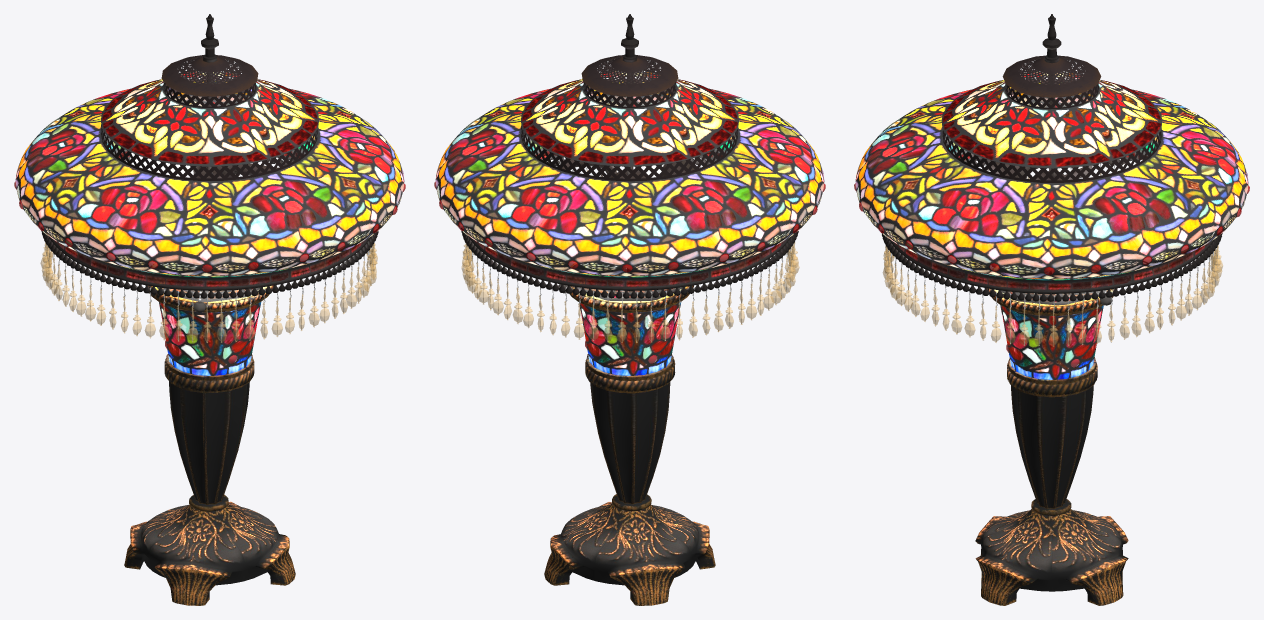
The model's file is light-stained-glass.glb.
3 renders of one model, left to right at view 1: azimuth 30°, elevation 25°; view 2: azimuth 150°, elevation 25°; view 3: azimuth 270°, elevation 25°, orthographic.
Visible parts, largest first — view 1: stainedglass, base, grill, amberbeads, hardware, steel, redgems; view 2: stainedglass, base, grill, amberbeads, hardware, steel, redgems; view 3: stainedglass, base, grill, amberbeads, hardware, steel, redgems.
Boxes of the visible parts, box(x1,y1,x2,y2) form: stainedglass: box(15, 71, 404, 375); base: box(124, 263, 295, 605); grill: box(101, 55, 317, 180); amberbeads: box(40, 242, 377, 343); hardware: box(41, 14, 378, 312); steel: box(45, 162, 373, 342); redgems: box(14, 101, 405, 363); stainedglass: box(435, 71, 824, 375); base: box(544, 263, 715, 605); grill: box(521, 55, 737, 181); amberbeads: box(461, 170, 799, 342); hardware: box(461, 14, 798, 298); steel: box(466, 160, 794, 342); redgems: box(434, 104, 825, 363); stainedglass: box(855, 71, 1248, 379); base: box(975, 266, 1128, 605); grill: box(942, 55, 1161, 182); amberbeads: box(882, 170, 1222, 346); hardware: box(882, 14, 1222, 305); steel: box(886, 163, 1217, 345); redgems: box(854, 105, 1249, 367).
Bounding box in the file's own units: 0.4399 × 0.6889 × 0.4399.
8 materials, 4 textured.
